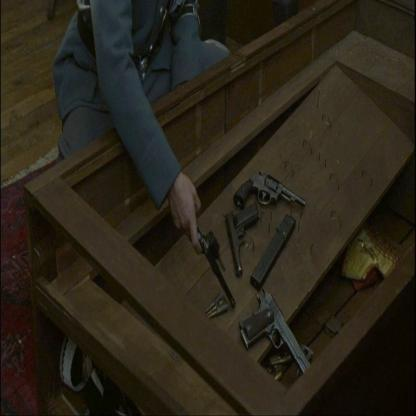gun: (189, 161, 347, 392)
